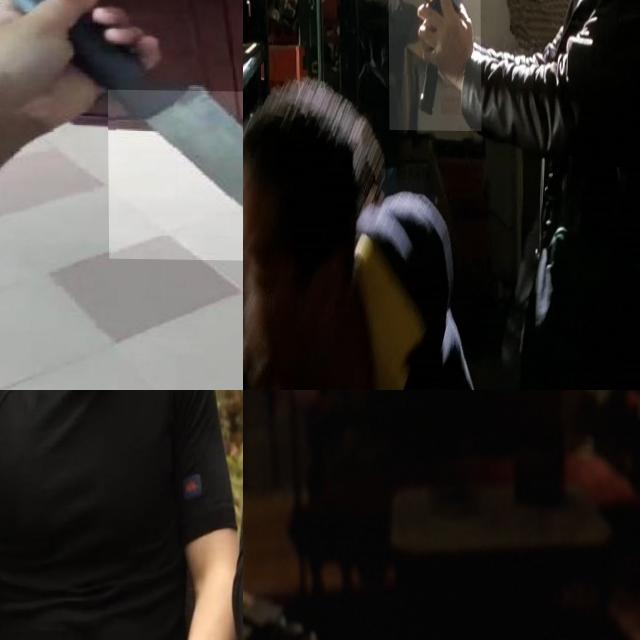-: (107, 89, 243, 260)
gun-knife-thesis - v11 Yolov5 augmented: (387, 0, 480, 130)
